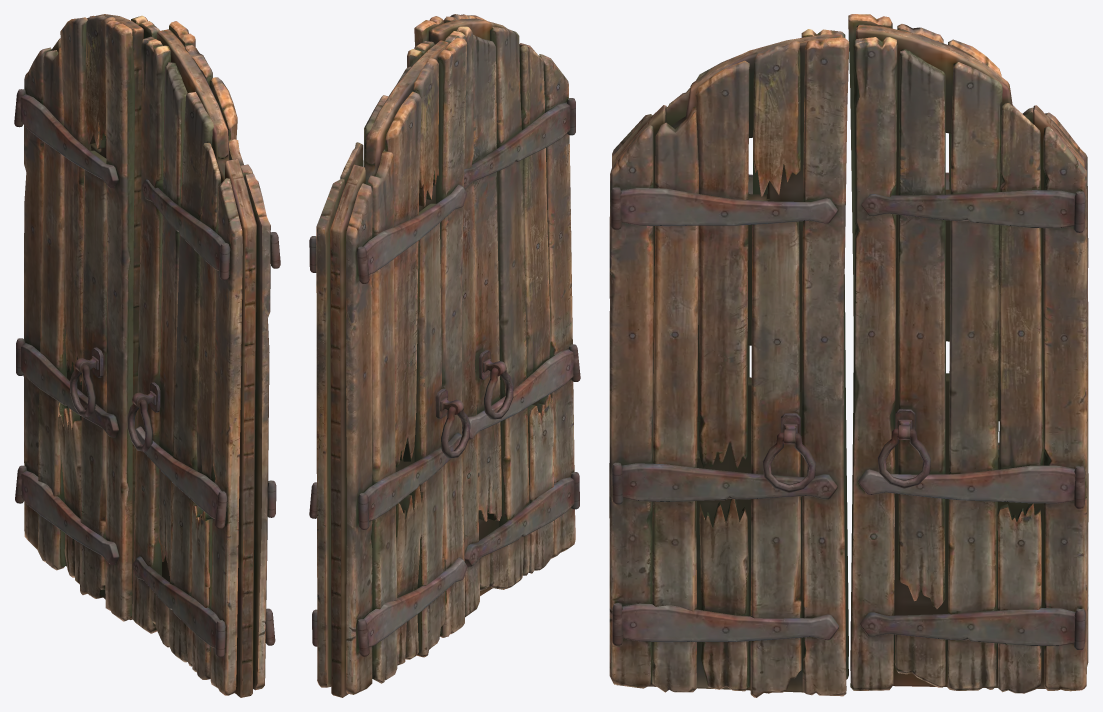
The picture shows the model from 3 angles, left to right: view 1: azimuth 30°, elevation 25°; view 2: azimuth 150°, elevation 25°; view 3: azimuth 270°, elevation 25°; orthographic projection. The views are drawn at different scales.
Parts seen in each view (by area): view 1: SM_Brynmoor_Castle_Doors_02_LOD0; view 2: SM_Brynmoor_Castle_Doors_02_LOD0; view 3: SM_Brynmoor_Castle_Doors_02_LOD0.
Part boxes in pixels (x1,y1,x2,y2): SM_Brynmoor_Castle_Doors_02_LOD0: (14,14,280,697); SM_Brynmoor_Castle_Doors_02_LOD0: (309,14,580,697); SM_Brynmoor_Castle_Doors_02_LOD0: (609,14,1088,697).
Size of the model in its own units: 0.6201 by 3.93 by 2.58.
